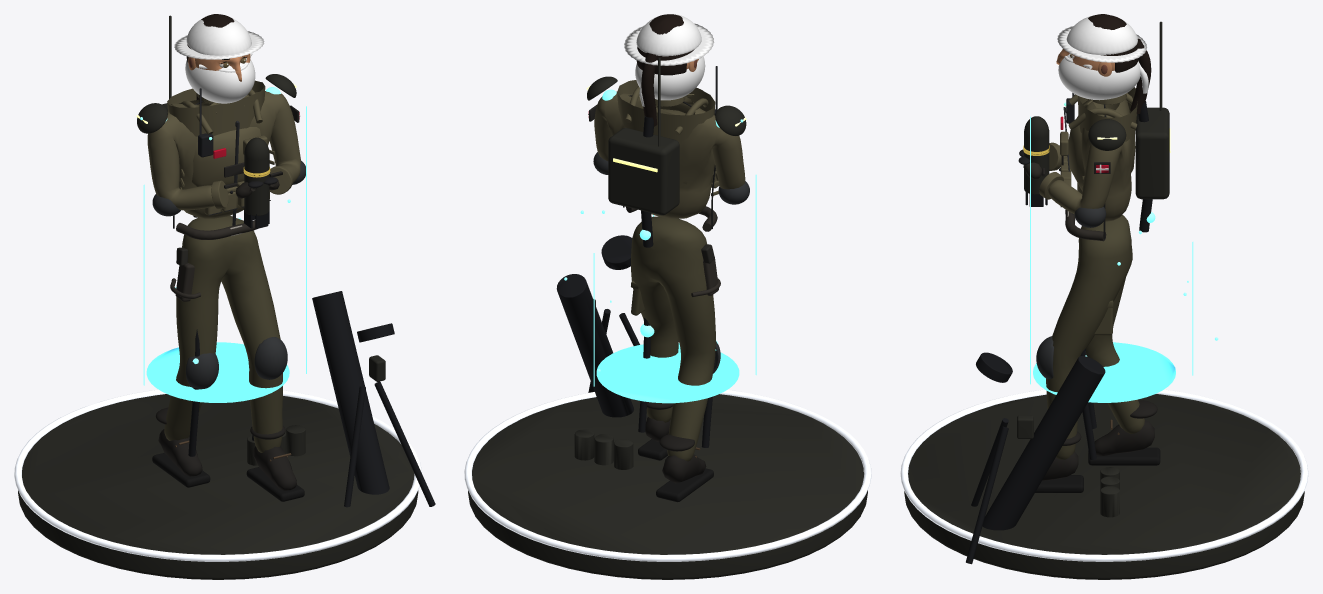
The model's file is morter_std.glb.
The picture shows the model from 3 angles, left to right: view 1: azimuth 30°, elevation 25°; view 2: azimuth 150°, elevation 25°; view 3: azimuth 270°, elevation 25°; orthographic projection.
Visible parts, largest first — view 1: fod_net, menneske_net, morter_net, op1_net, hoved_net, op4_net, vaaben_net, op3_net, op4.001_net; view 2: fod_net, menneske_net, morter_net, op3_net, hoved_net, op4_net, op1_net, op4.001_net; view 3: fod_net, menneske_net, morter_net, hoved_net, op3_net, op4_net, op1_net, vaaben_net, op4.001_net.
Part boxes in pixels (<box>): fod_net: <box>14,389,421,579</box>; menneske_net: <box>147,80,304,501</box>; morter_net: <box>247,291,435,507</box>; op1_net: <box>152,88,305,389</box>; hoved_net: <box>174,14,264,103</box>; op4_net: <box>140,106,306,402</box>; vaaben_net: <box>243,137,270,228</box>; op3_net: <box>136,15,296,133</box>; op4.001_net: <box>165,87,280,456</box>; fod_net: <box>464,390,871,579</box>; menneske_net: <box>588,80,745,502</box>; morter_net: <box>556,235,639,469</box>; op3_net: <box>586,57,746,215</box>; hoved_net: <box>624,14,714,126</box>; op4_net: <box>564,119,756,403</box>; op1_net: <box>593,66,749,373</box>; op4.001_net: <box>602,89,719,447</box>; fod_net: <box>900,389,1308,579</box>; menneske_net: <box>1018,87,1160,492</box>; morter_net: <box>966,352,1119,564</box>; hoved_net: <box>1056,14,1151,113</box>; op3_net: <box>1088,21,1170,199</box>; op4_net: <box>1030,116,1218,402</box>; op1_net: <box>1036,93,1137,379</box>; vaaben_net: <box>1023,116,1049,206</box>; op4.001_net: <box>1080,101,1155,459</box>.
Bounding box in the file's own units: 1.94 × 2.51 × 1.94.
